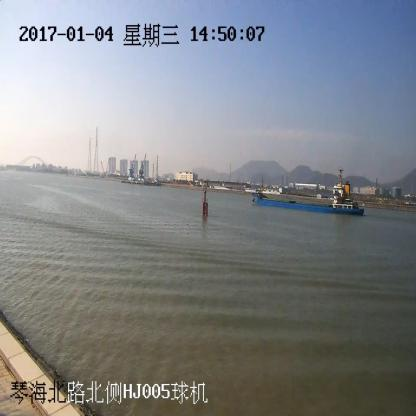Bulk Carrier: (252, 168, 364, 216)
